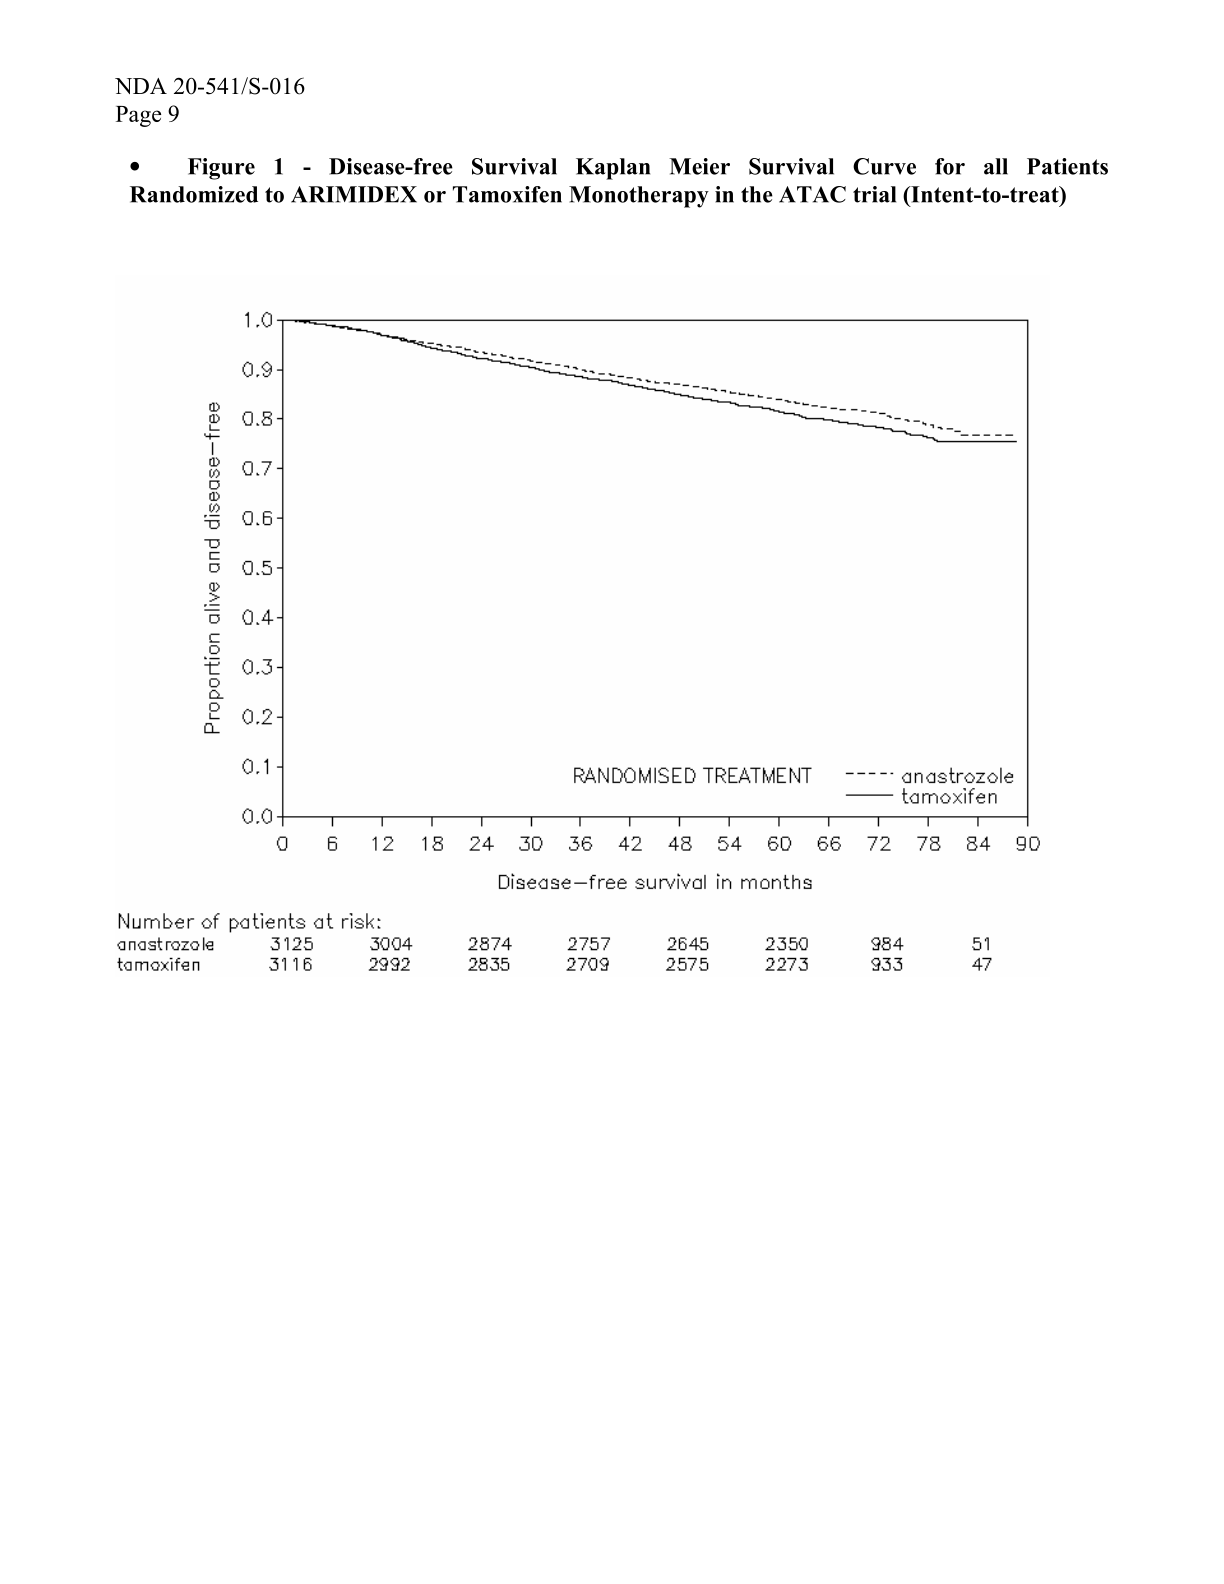nolines: (113, 909, 995, 977)
